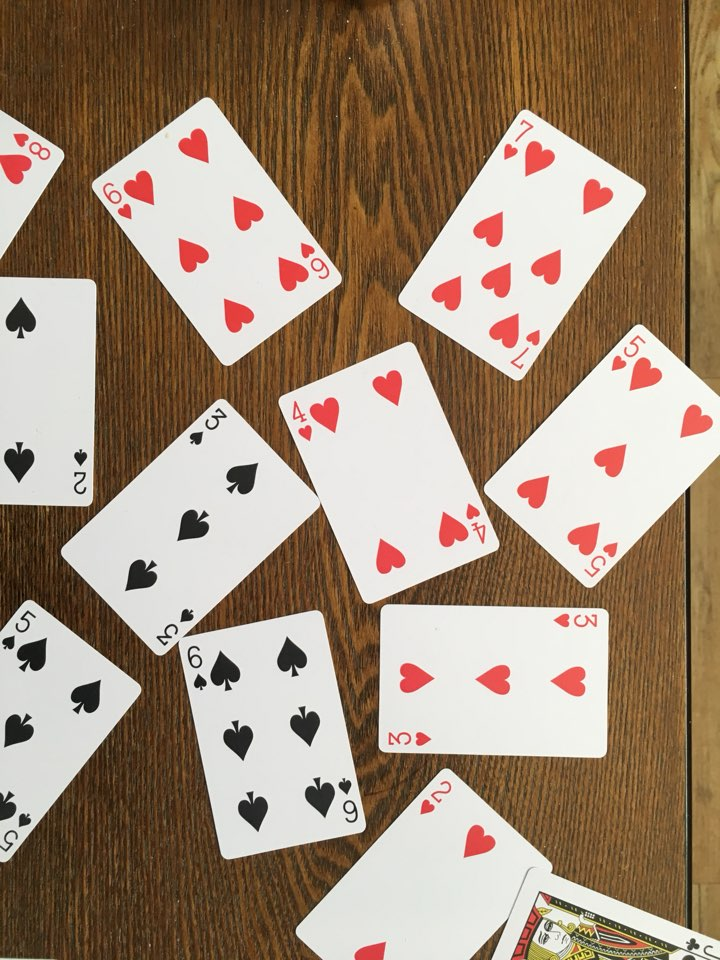jack: (477, 865, 720, 957)
